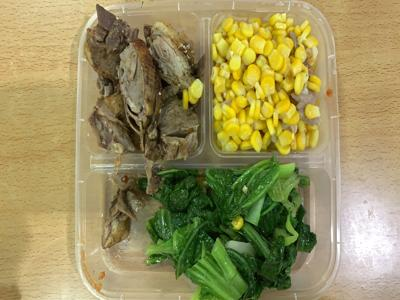ymc: (100, 171, 327, 294)
yr: (80, 10, 203, 159)
